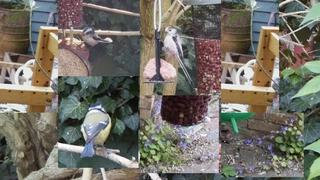blue tit: (80, 103, 112, 157)
long tailed tit: (161, 27, 194, 89), (78, 27, 113, 50)
